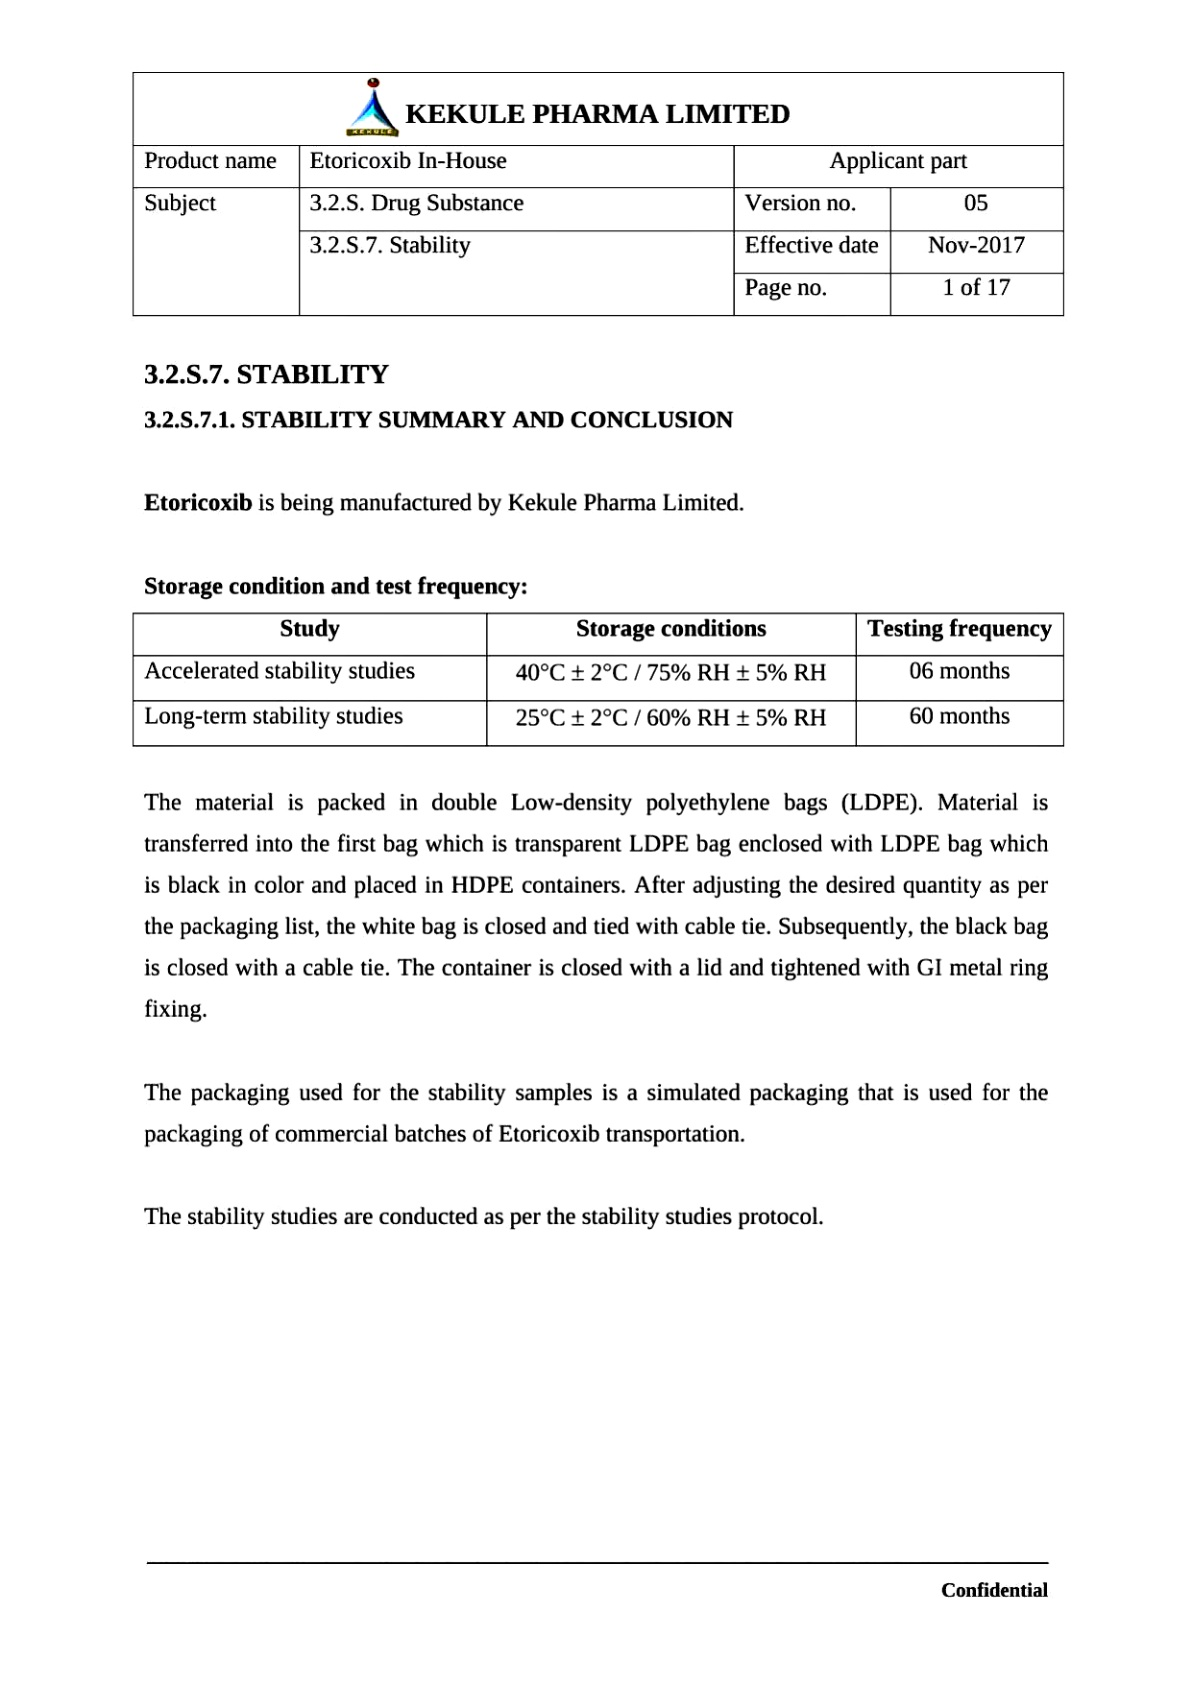full_lined: (130, 611, 1065, 748)
merged_cells: (130, 71, 1065, 318)
